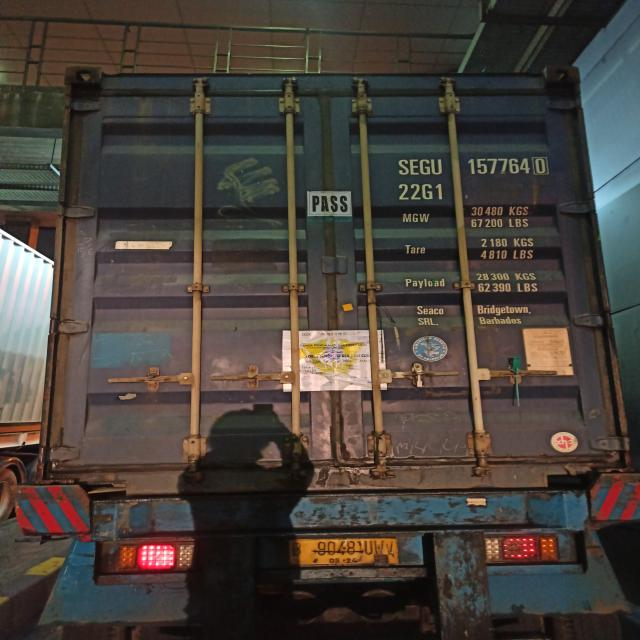seal: (508, 355, 526, 403), (413, 370, 425, 388)
